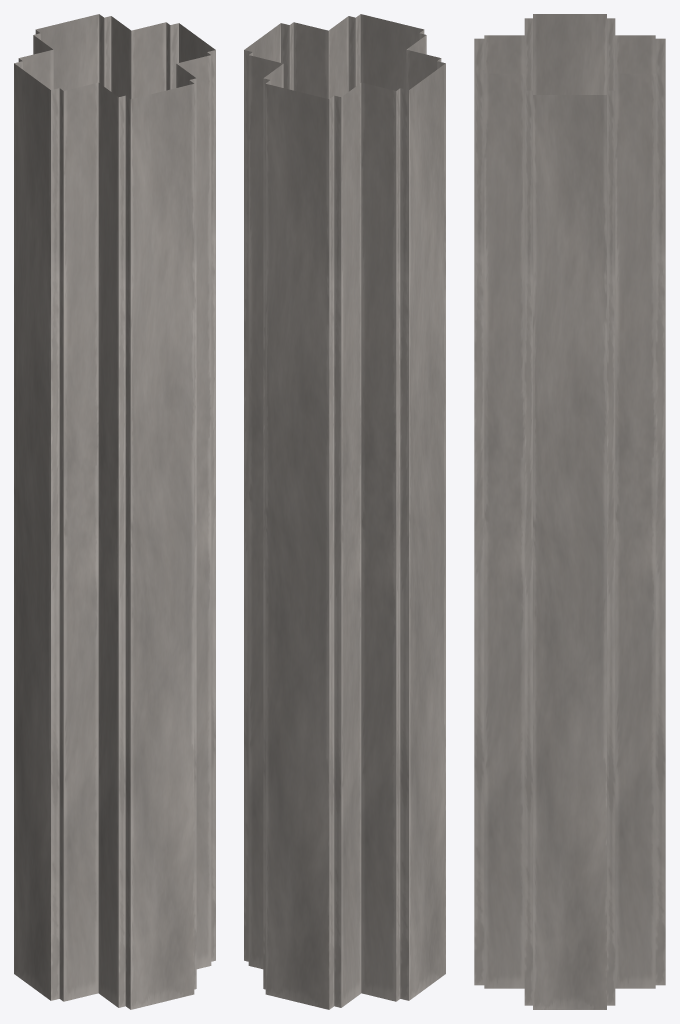
File: Post_C_3m.fbx
3 views of the same model, side by side, from view 1: azimuth 30°, elevation 25°; view 2: azimuth 150°, elevation 25°; view 3: azimuth 270°, elevation 25° (orthographic).
Visible parts, largest first — view 1: Post_C_3m; view 2: Post_C_3m; view 3: Post_C_3m.
Boxes of the visible parts, bbox=[...] form: Post_C_3m: bbox=[14, 14, 215, 1009]; Post_C_3m: bbox=[244, 14, 445, 1009]; Post_C_3m: bbox=[474, 14, 665, 1009].
Size of the model in its own units: 0.5685 by 0.5685 by 3.
